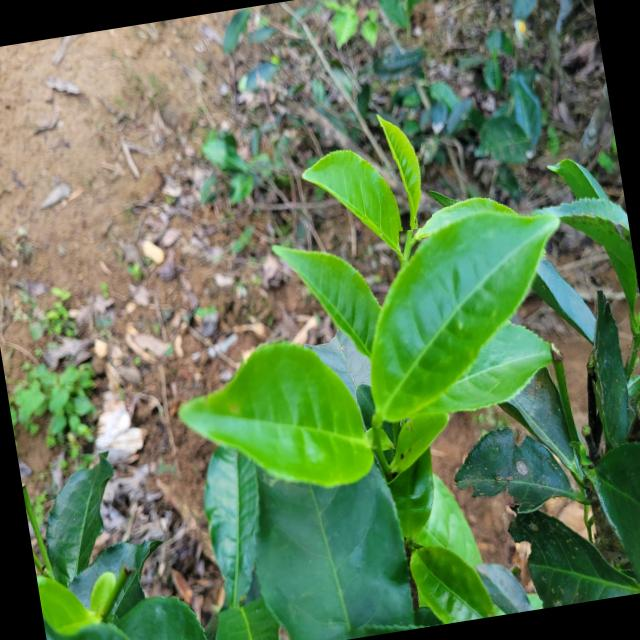Catagory A(1-2 days): (373, 105, 434, 232)
